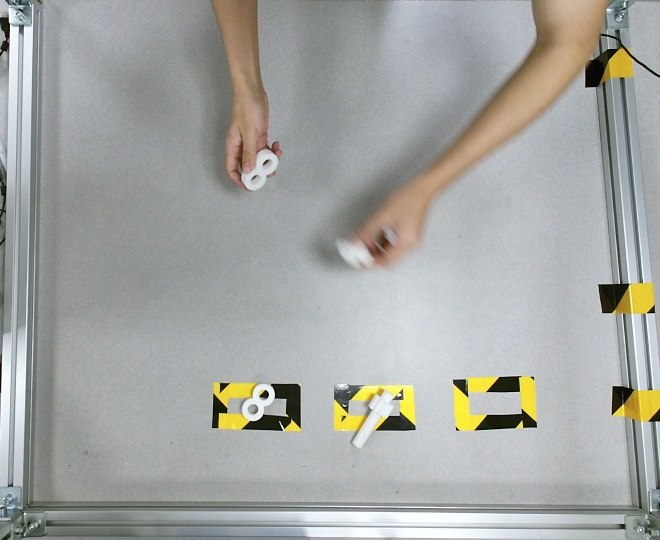stage_1: (240, 148, 278, 191)
